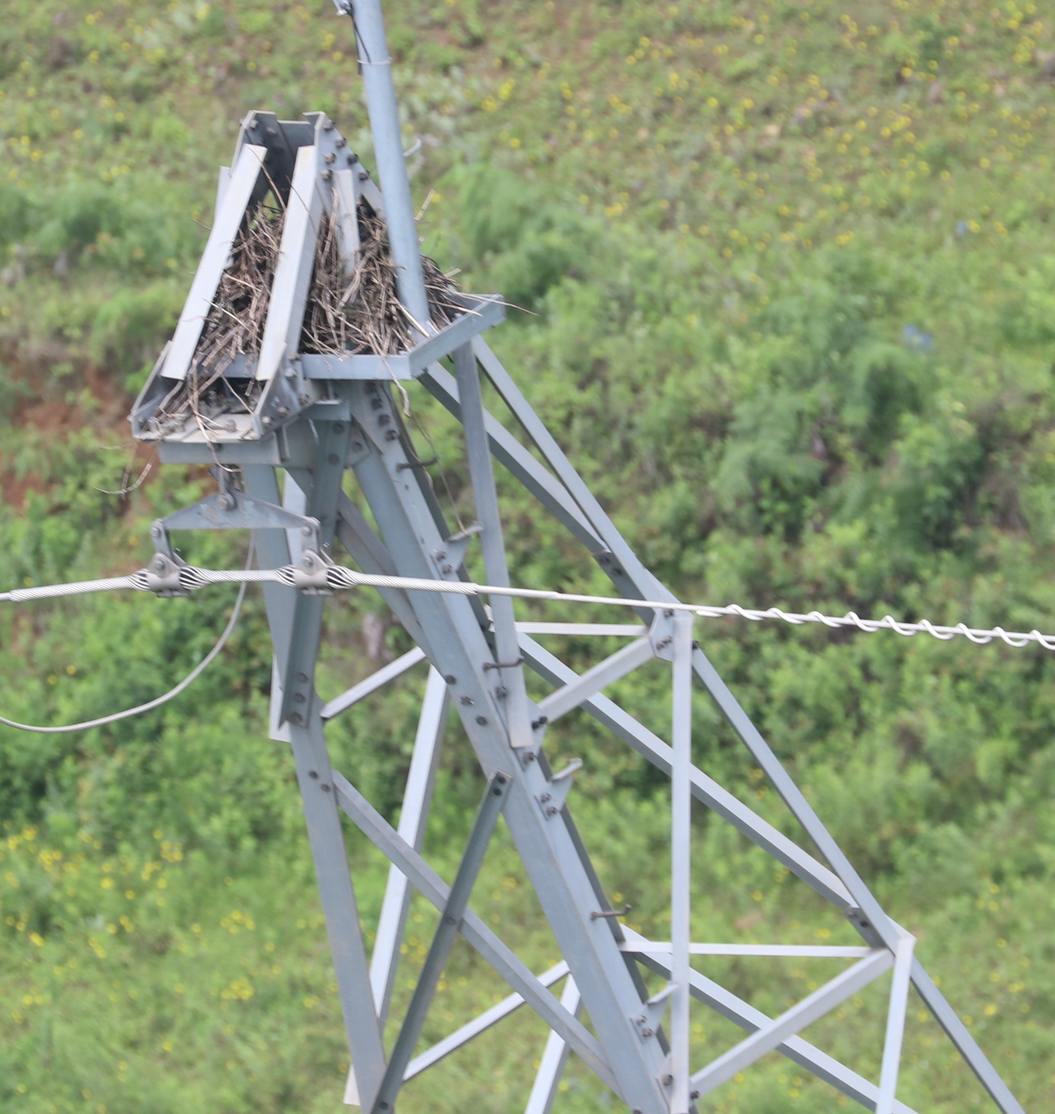nest: (182, 192, 464, 352)
